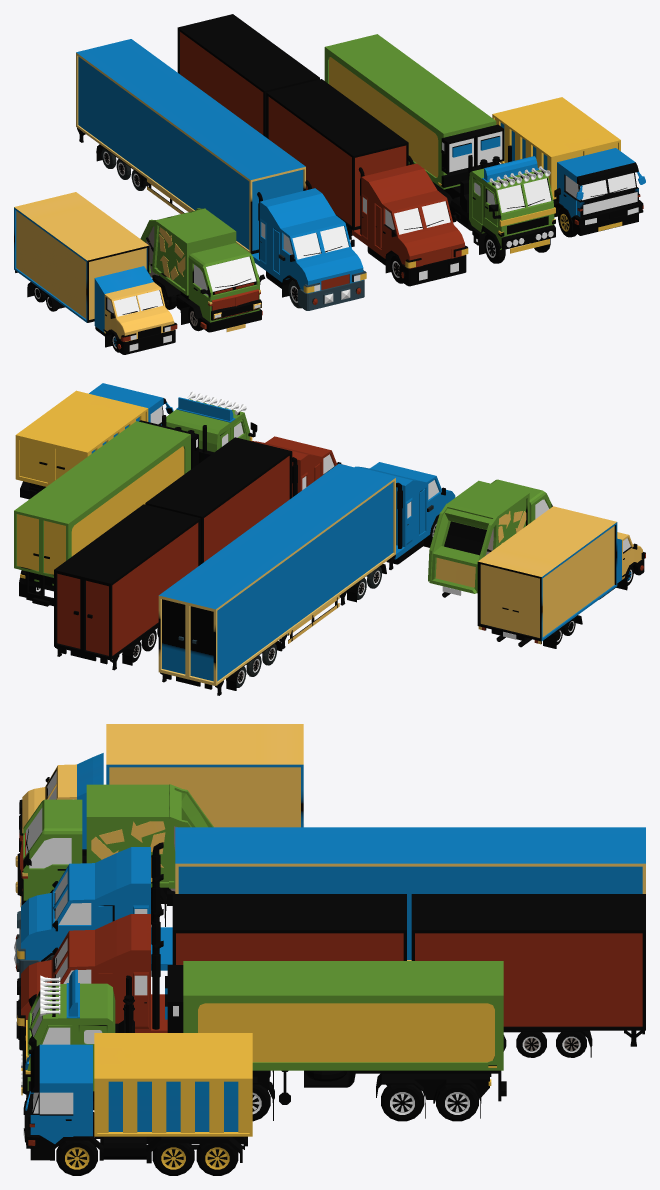
File: eu_lorries_-_low_poly.glb
3 renders of one model, top to bottom at view 1: azimuth 30°, elevation 25°; view 2: azimuth 150°, elevation 25°; view 3: azimuth 270°, elevation 25°, orthographic. The views are drawn at different scales.
Parts seen in each view (by area): view 1: Euro_Lorry_4_2, Euro_Lorry_3_1, Euro_Lorry_2_4, Euro_Lorry_6_3, Euro_Lorry_1_5, Euro_Lorry_5_0; view 2: Euro_Lorry_4_2, Euro_Lorry_3_1, Euro_Lorry_2_4, Euro_Lorry_6_3, Euro_Lorry_1_5, Euro_Lorry_5_0; view 3: Euro_Lorry_3_1, Euro_Lorry_2_4, Euro_Lorry_4_2, Euro_Lorry_1_5, Euro_Lorry_6_3, Euro_Lorry_5_0.
Boxes of the visible parts, x1,y1,x2,y2 form: Euro_Lorry_4_2: (76, 39, 366, 310); Euro_Lorry_3_1: (177, 14, 468, 286); Euro_Lorry_2_4: (324, 34, 560, 263); Euro_Lorry_6_3: (14, 192, 177, 354); Euro_Lorry_1_5: (492, 97, 645, 237); Euro_Lorry_5_0: (140, 208, 265, 332); Euro_Lorry_4_2: (158, 462, 455, 695); Euro_Lorry_3_1: (54, 436, 342, 670); Euro_Lorry_2_4: (14, 391, 257, 606); Euro_Lorry_6_3: (477, 506, 645, 648); Euro_Lorry_1_5: (15, 383, 173, 499); Euro_Lorry_5_0: (428, 479, 552, 597); Euro_Lorry_3_1: (16, 894, 645, 1057); Euro_Lorry_2_4: (21, 961, 506, 1121); Euro_Lorry_4_2: (14, 827, 645, 977); Euro_Lorry_1_5: (23, 1033, 252, 1175); Euro_Lorry_6_3: (19, 724, 304, 855); Euro_Lorry_5_0: (15, 784, 213, 926).
Bounding box in the file's own units: 28.42 × 5.02 × 21.73.
6 materials, 6 textured.
